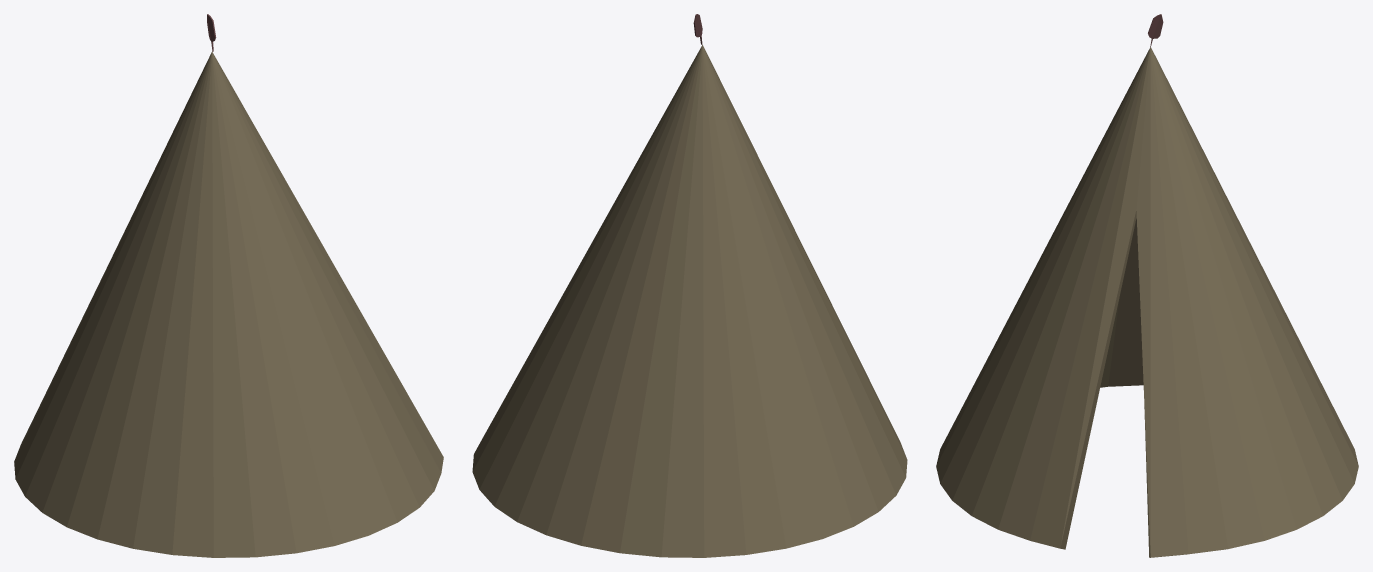
Rendered from LittleCabana.fbx.
3 renders of one model, left to right at view 1: azimuth 30°, elevation 25°; view 2: azimuth 150°, elevation 25°; view 3: azimuth 270°, elevation 25°, orthographic. The views are drawn at different scales.
Visible parts, largest first — view 1: Cone; view 2: Cone; view 3: Cone.
Boxes of the visible parts, <box> form: Cone: <box>14,51,443,557</box>; Cone: <box>472,45,907,557</box>; Cone: <box>936,47,1358,557</box>.
Size of the model in its own units: 201 by 235 by 200.
